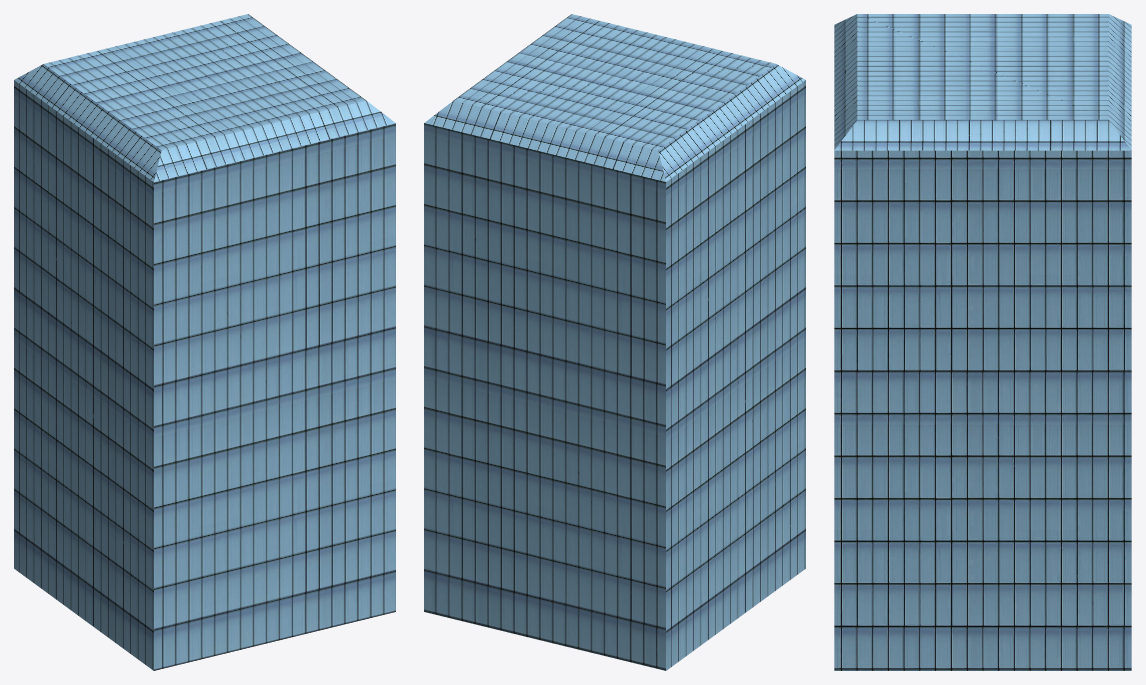
The model's file is BİNANAN.fbx.
3 renders of one model, left to right at view 1: azimuth 30°, elevation 25°; view 2: azimuth 150°, elevation 25°; view 3: azimuth 270°, elevation 25°, orthographic. The views are drawn at different scales.
Parts seen in each view (by area): view 1: Cube; view 2: Cube; view 3: Cube.
Part boxes in pixels (left/top/right/bottom): Cube: left=14, top=14, right=395, bottom=670; Cube: left=424, top=14, right=805, bottom=670; Cube: left=834, top=14, right=1131, bottom=670.
Size of the model in its own units: 200 by 401 by 200.
